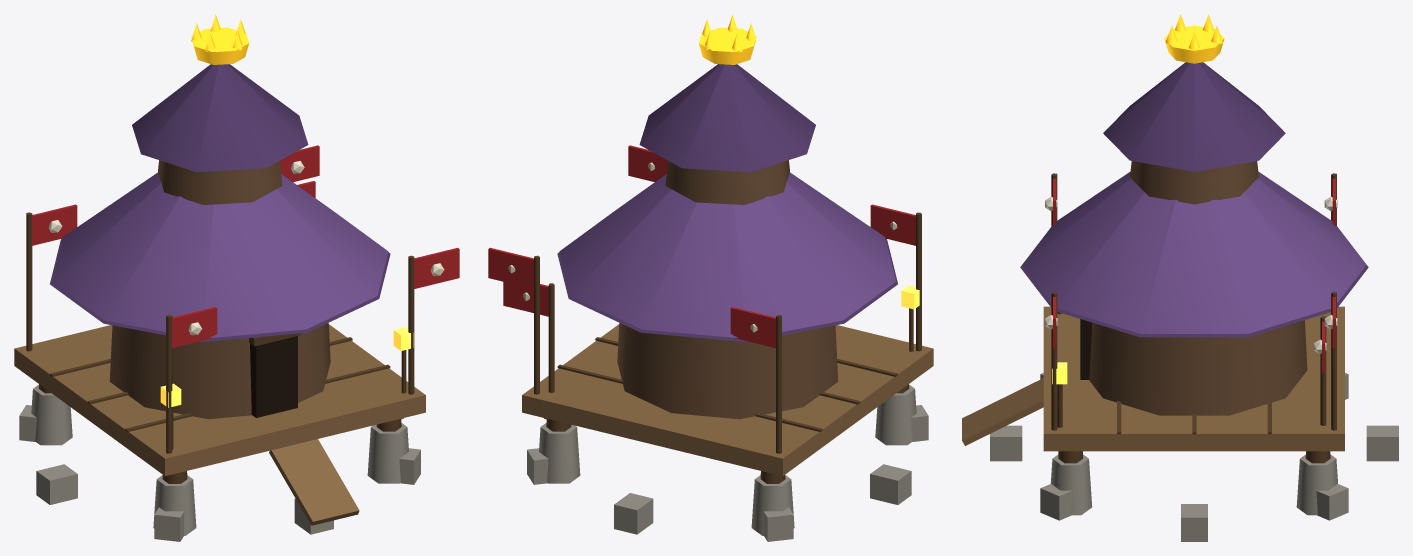
Rendered from goblin-level4.glb.
The picture shows the model from 3 angles, left to right: view 1: azimuth 30°, elevation 25°; view 2: azimuth 150°, elevation 25°; view 3: azimuth 270°, elevation 25°; orthographic projection.
Bounding box in the file's own units: 3.8 × 4.45 × 4.06.
